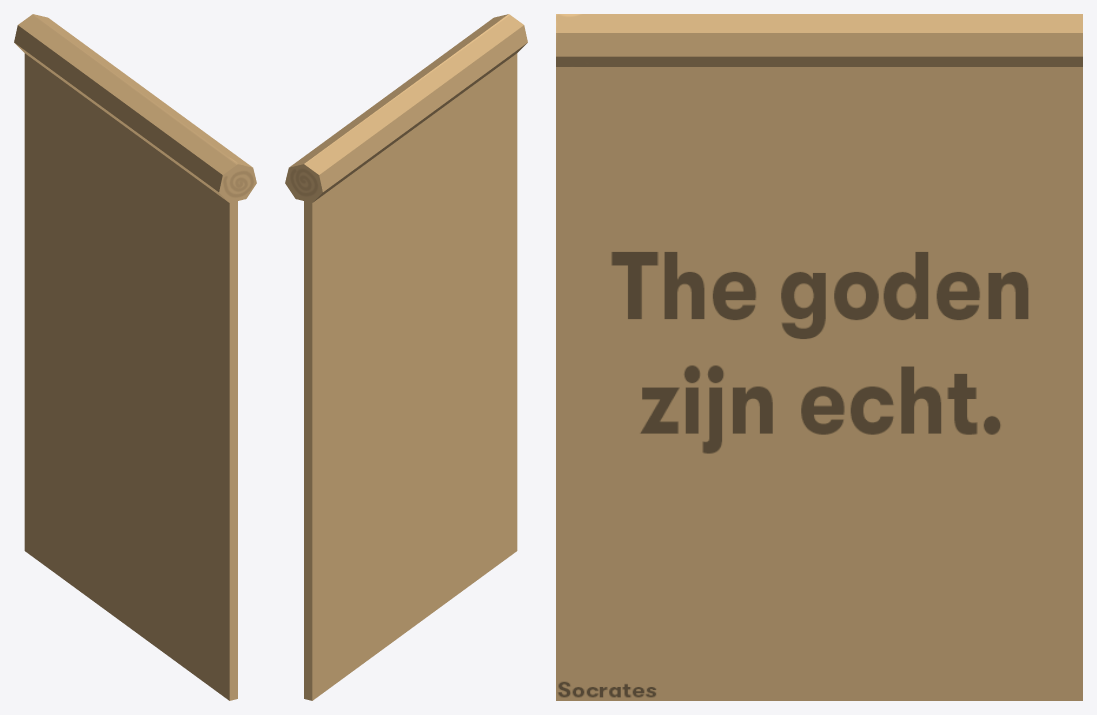
Rendered from Ancient scroll_V2.fbx.
The picture shows the model from 3 angles, left to right: view 1: azimuth 30°, elevation 25°; view 2: azimuth 150°, elevation 25°; view 3: azimuth 270°, elevation 25°; orthographic projection. The views are drawn at different scales.
Parts seen in each view (by area): view 1: Scroll_V2; view 2: Scroll_V2; view 3: Scroll_V2.
Boxes of the visible parts, x1,y1,x2,y2 form: Scroll_V2: (14, 14, 256, 700); Scroll_V2: (285, 14, 527, 700); Scroll_V2: (556, 14, 1082, 700).
Size of the model in its own units: 0.0977 by 1.32 by 0.915.
